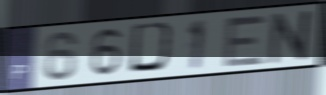1: (186, 17, 208, 71)
6: (42, 30, 78, 83), (90, 27, 124, 78)
D: (127, 20, 179, 75)
E: (221, 13, 269, 69)
N: (266, 7, 317, 66)
